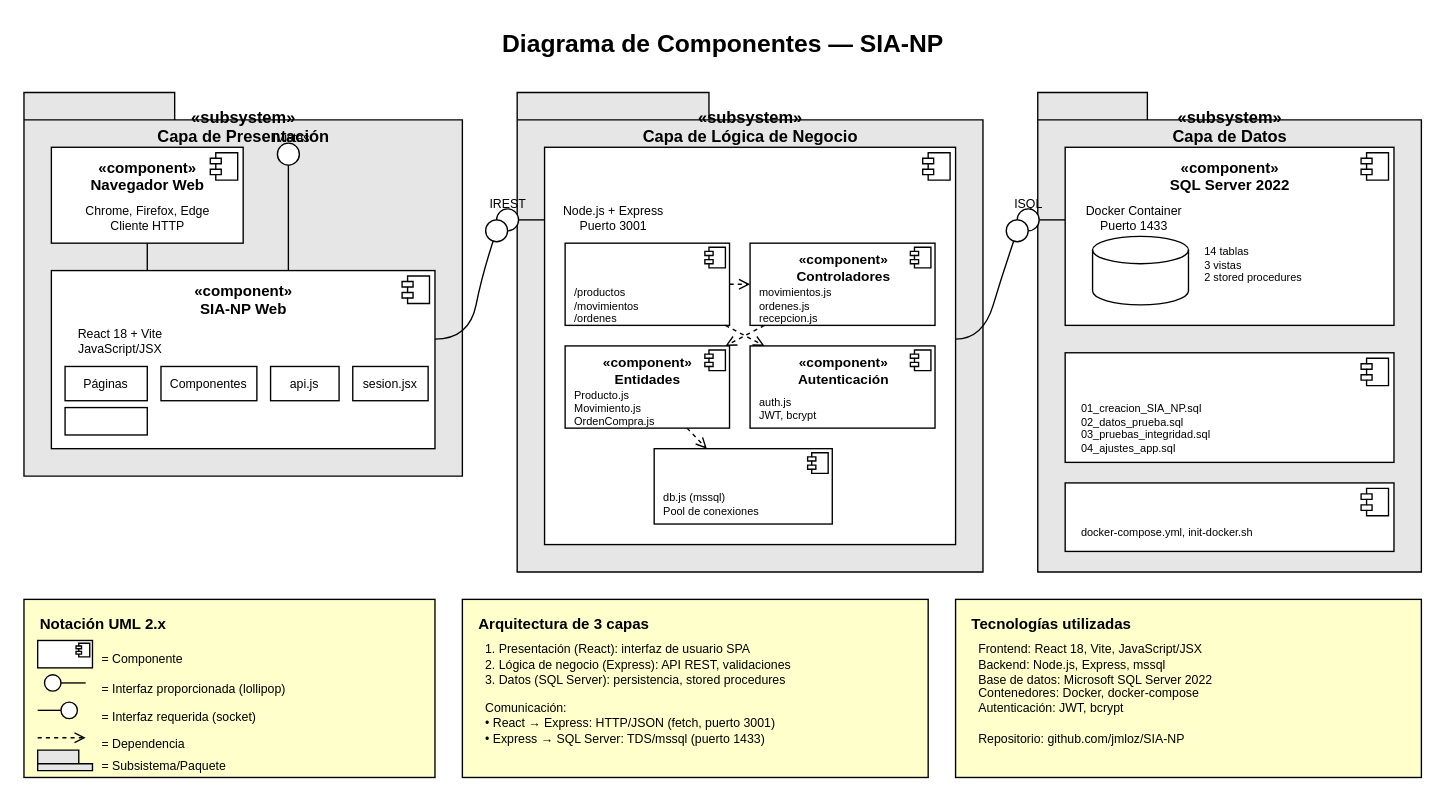
Some shapes in this 1445 by 801 pixel diagram are drawn without their labels. The box of each missing label's shape, as (x1, y1, x2, y2) in pixels:
estilos.css: (64, 406, 147, 435)
SIA_NP: (1091, 235, 1188, 305)
«component» API REST: (543, 146, 956, 545)
«component» Conexión BD: (653, 447, 832, 524)
«component» Docker: (1064, 482, 1394, 551)
«component» Rutas: (564, 242, 730, 325)
«component» Scripts SQL: (1064, 351, 1394, 462)
